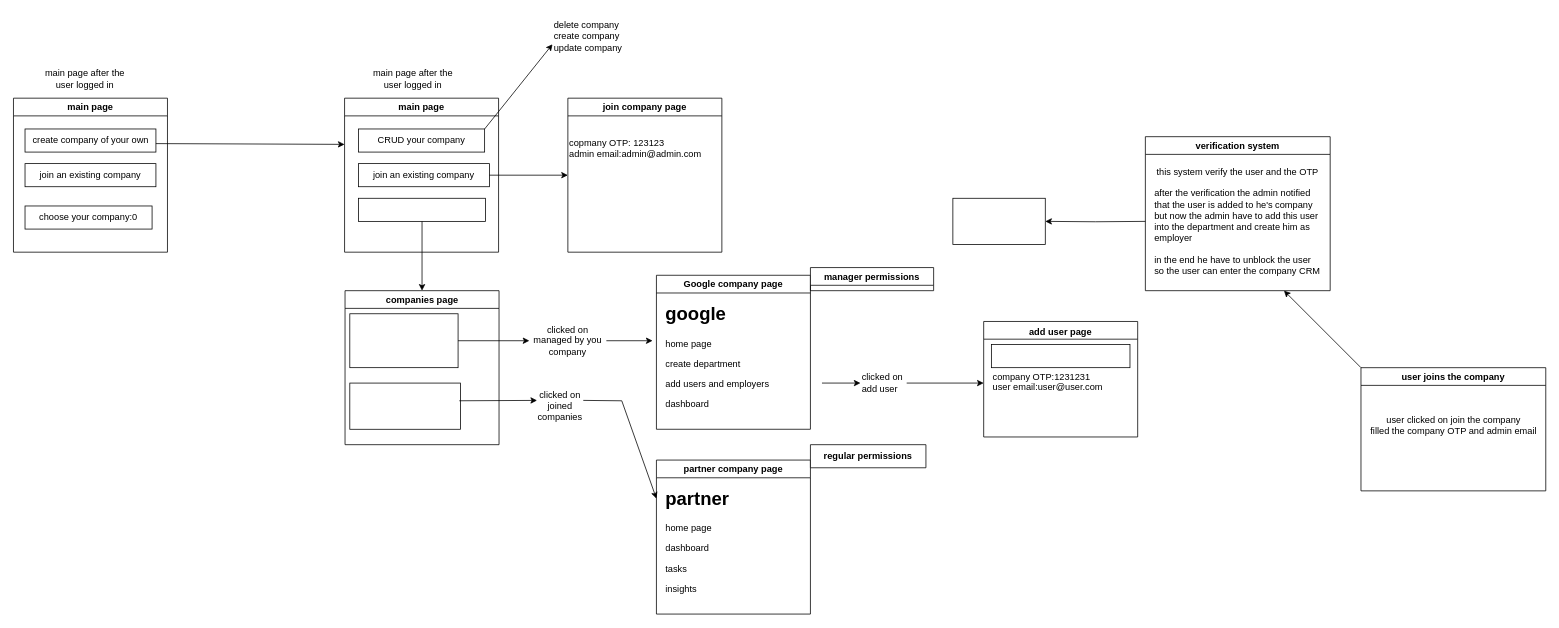
The diagram is 1559 pixels wide and 628 high, and some of its shapes have lost their labels. The shapes that lost their labels are listed below. From the top down, each one's centre as x and y in pixels, then its label:
At [422,209]: "choose your company:1".
At [998,221]: "notify our manager and adding the user into the company but as blocked user".
At [403,340]: "managed by you: 1.google 2.radco 3.somesome".
At [1060,356]: "send the user the OTP to join the company".
At [405,405]: "joined companies: 1.partner 2.radco2 3.radco3".
